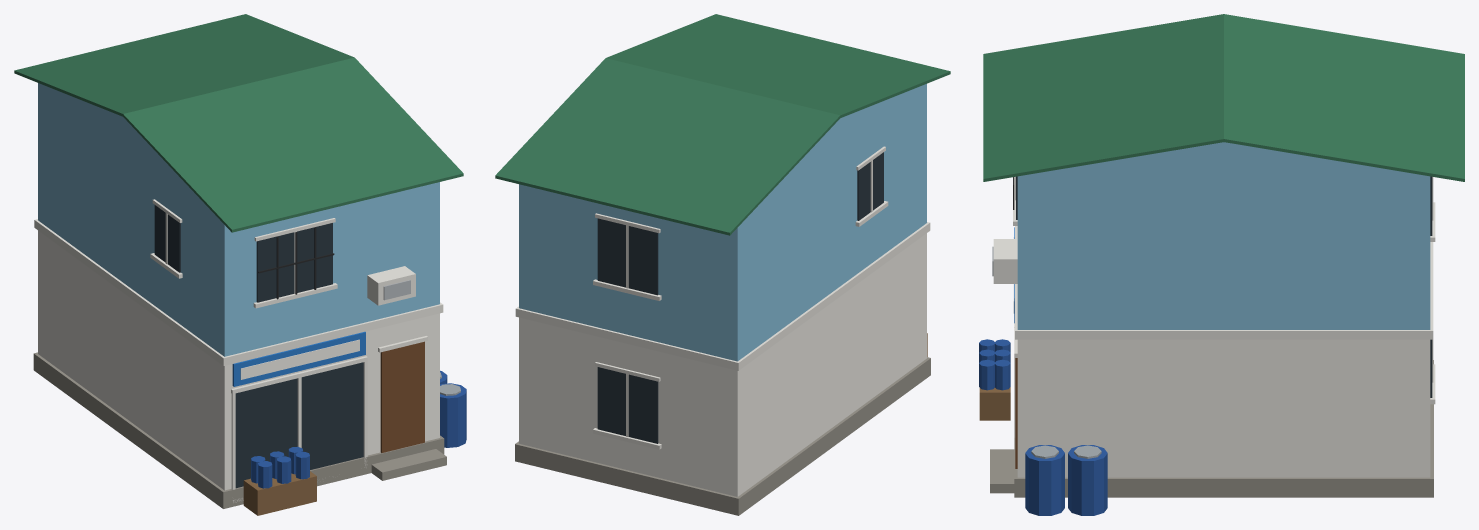
File: BAY_F_TwoStorey_G.glb
The picture shows the model from 3 angles, left to right: view 1: azimuth 30°, elevation 25°; view 2: azimuth 150°, elevation 25°; view 3: azimuth 270°, elevation 25°; orthographic projection. The views are drawn at different scales.
Parts seen in each view (by area): view 1: BAY_F_TwoStorey_G; view 2: BAY_F_TwoStorey_G; view 3: BAY_F_TwoStorey_G.
Boxes of the visible parts, x1,y1,x2,y2 form: BAY_F_TwoStorey_G: [14, 14, 466, 515]; BAY_F_TwoStorey_G: [495, 14, 950, 515]; BAY_F_TwoStorey_G: [979, 14, 1464, 515].
Bounding box in the file's own units: 4.83 × 5.8 × 7.06.
Materials: 1 (1 with a texture image).
